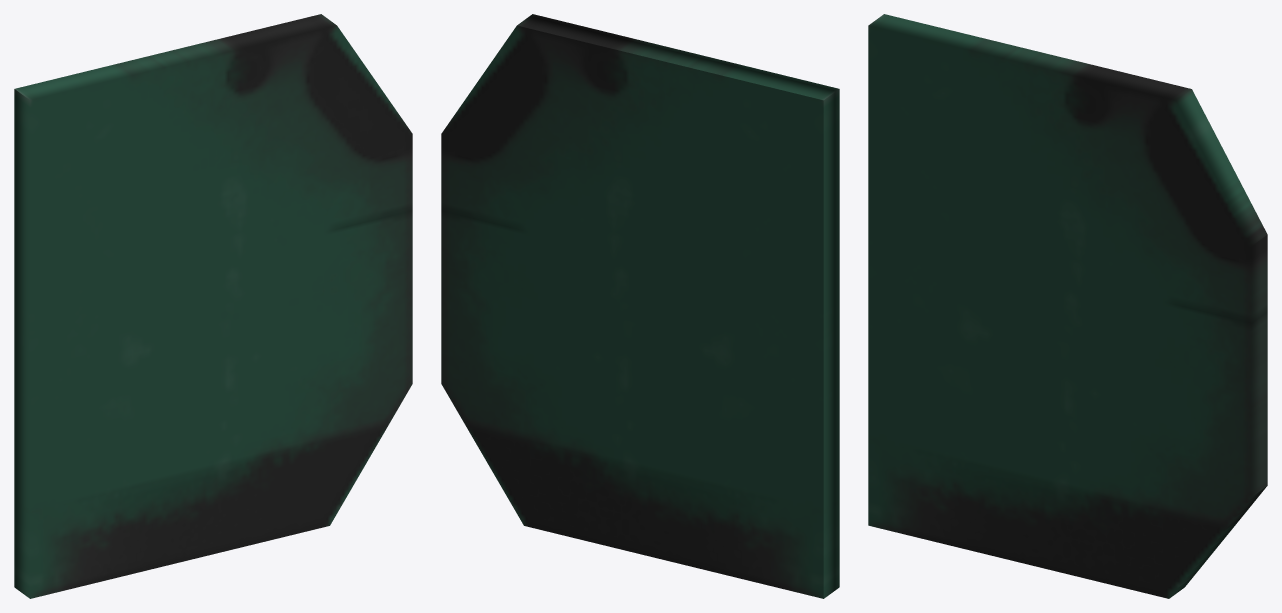
Rendered from wall (1).fbx.
The picture shows the model from 3 angles, left to right: view 1: azimuth 30°, elevation 25°; view 2: azimuth 150°, elevation 25°; view 3: azimuth 330°, elevation 25°; orthographic projection.
Parts seen in each view (by area): view 1: polySurface364; view 2: polySurface364; view 3: polySurface364.
Boxes of the visible parts, left/top/right/bottom form: polySurface364: left=14, top=14, right=412, bottom=598; polySurface364: left=441, top=14, right=839, bottom=598; polySurface364: left=868, top=14, right=1267, bottom=598.
Size of the model in its own units: 14.02 by 17.47 by 1.
Materials: 1 (1 with a texture image).
